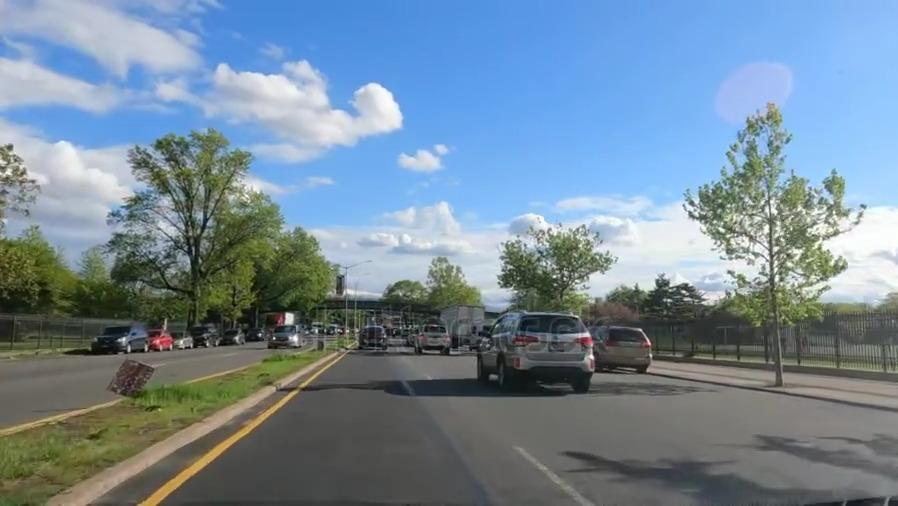car: (476, 316, 589, 392), (589, 320, 653, 374), (93, 325, 148, 351), (414, 323, 452, 354), (268, 325, 303, 348), (358, 324, 386, 351), (219, 328, 245, 347), (192, 328, 218, 346), (171, 331, 194, 350), (149, 331, 171, 349), (245, 326, 267, 342)
